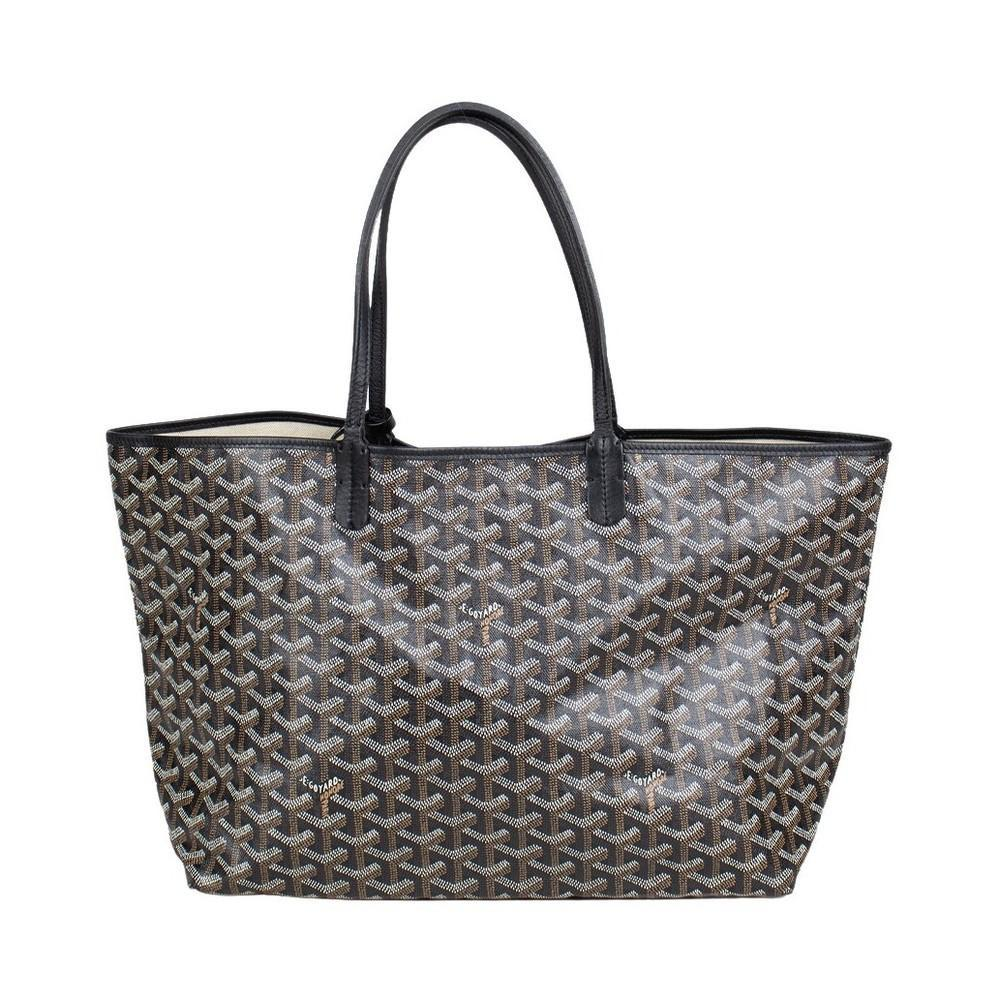GOYARD: (108, 444, 889, 902)
